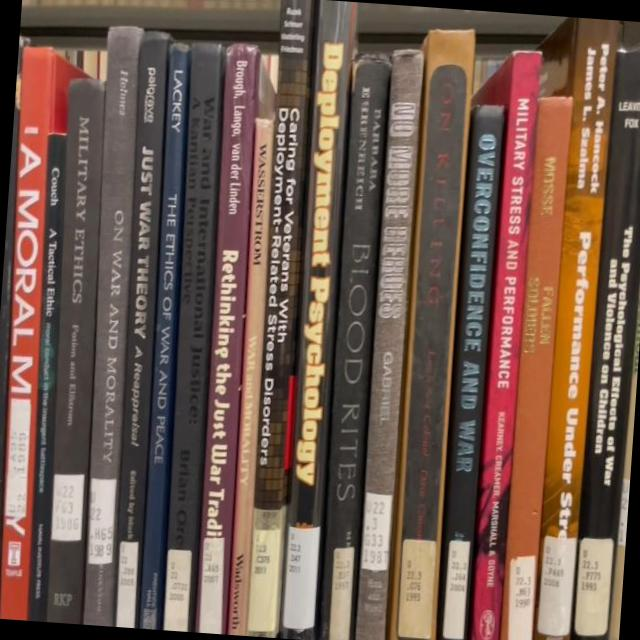book: (384, 27, 476, 640), (530, 18, 618, 640), (275, 0, 357, 640), (465, 50, 542, 640), (245, 0, 315, 638), (566, 46, 640, 640), (316, 55, 391, 640), (352, 49, 424, 640), (190, 42, 261, 634), (498, 95, 572, 640), (78, 25, 144, 626), (160, 42, 225, 632), (434, 103, 504, 640), (108, 31, 171, 626), (46, 78, 105, 623), (0, 46, 55, 618), (138, 42, 191, 630), (223, 117, 278, 636), (27, 134, 67, 622), (0, 36, 23, 539)
